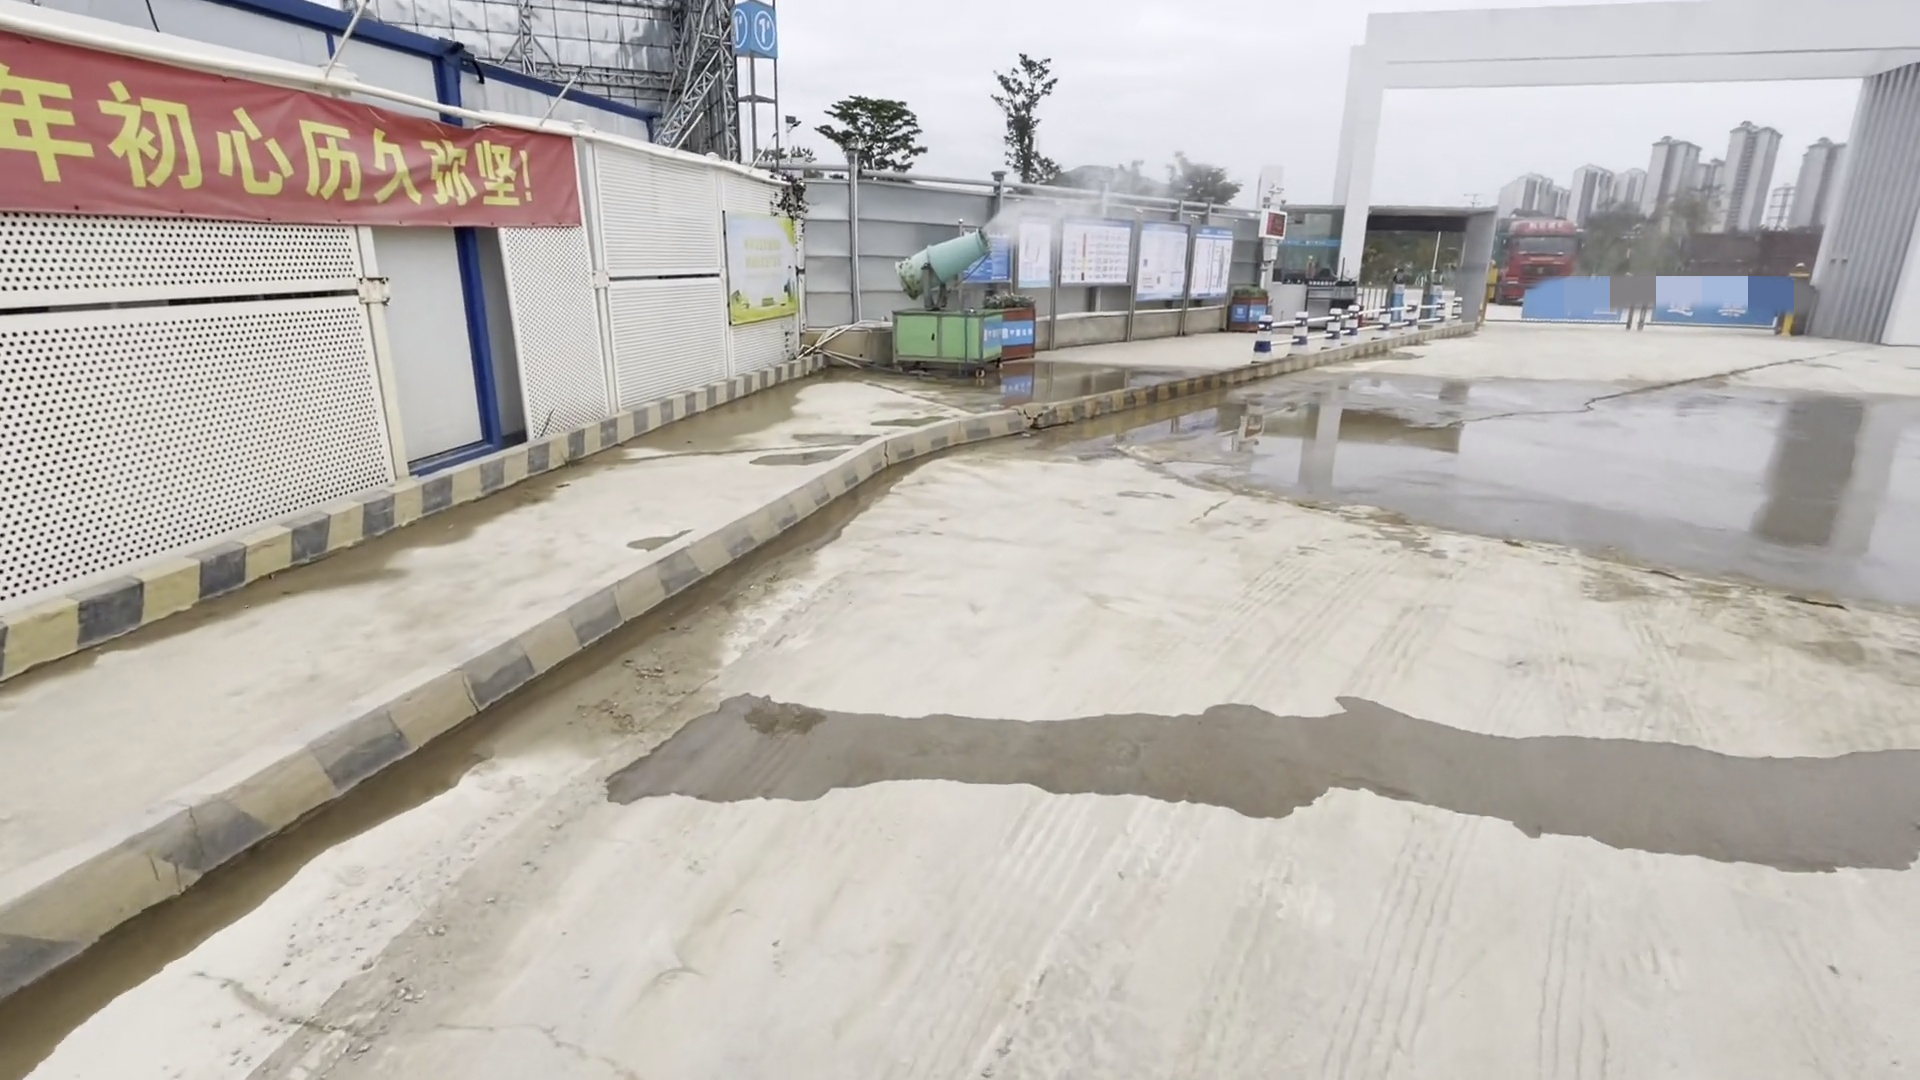slogan: (3, 44, 570, 229)
